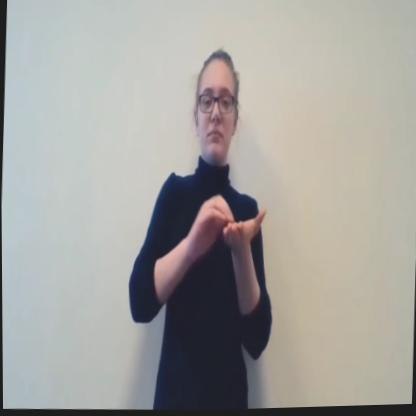ExcuseMe: (120, 44, 283, 413)
